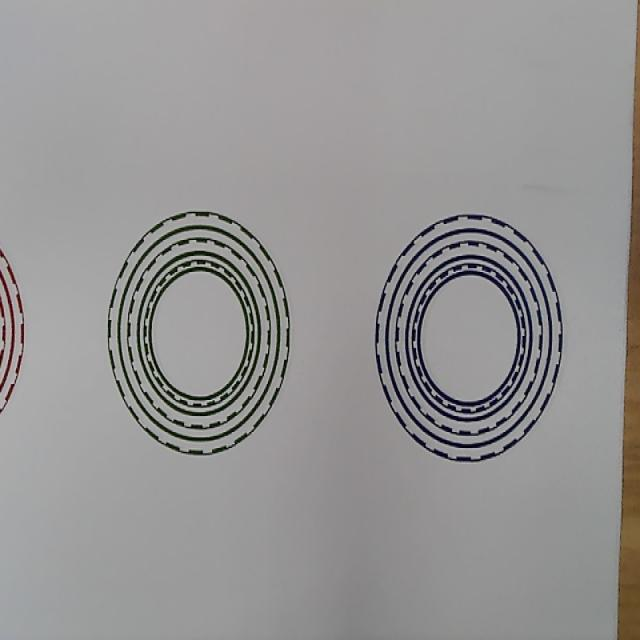b: (374, 214, 562, 462)
g: (107, 212, 291, 456)
